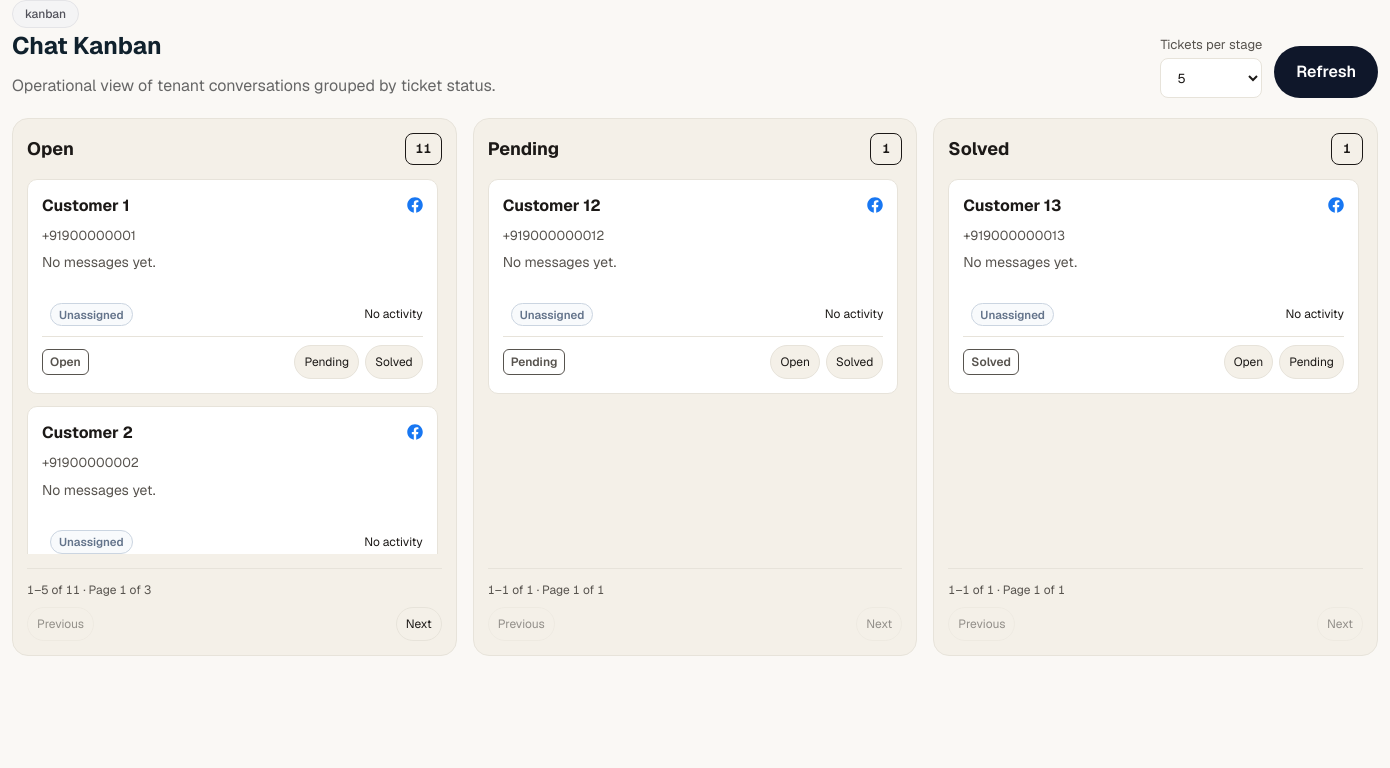
Scenario: a failed refresh preserves previously loaded tickets
expect the text "Customer 1" is shown: met, box x1=42 y1=194 x2=130 y2=218
Click the button "Refresh" at (1326, 72), box x1=1274 y1=46 x2=1378 y2=98
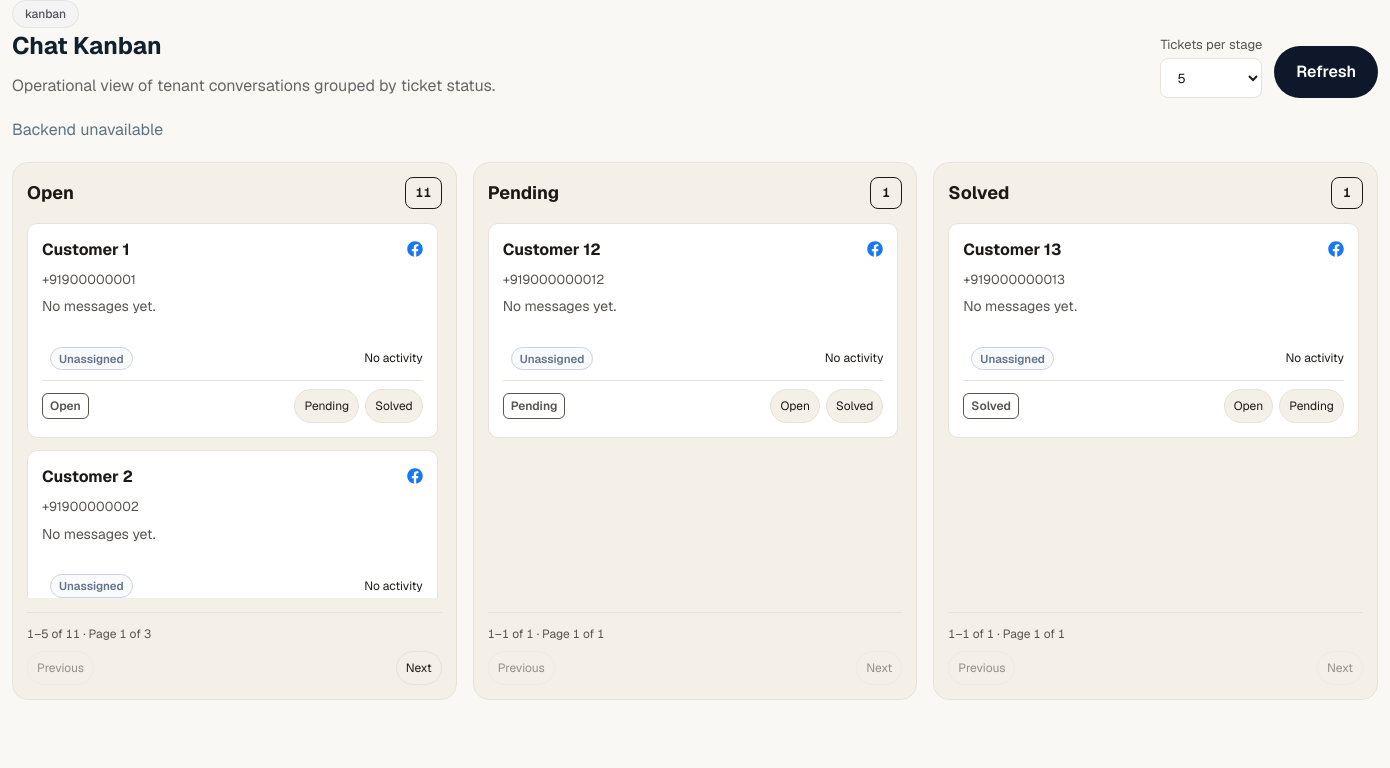
expect the text "Customer 1" is shown: met, box x1=42 y1=238 x2=130 y2=262
expect the text "Backend unavailable" is shown: met, box x1=12 y1=119 x2=163 y2=140
